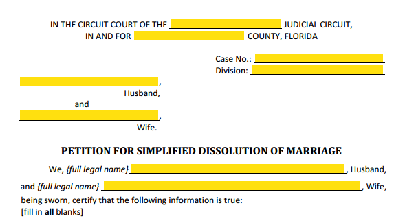textline: (100, 179, 364, 192), (127, 162, 348, 175), (17, 109, 160, 122), (17, 75, 160, 87), (252, 52, 386, 64), (249, 65, 386, 76), (168, 19, 283, 30), (132, 30, 246, 41)
